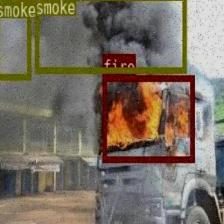smoke: (34, 0, 186, 72), (0, 0, 30, 79)
